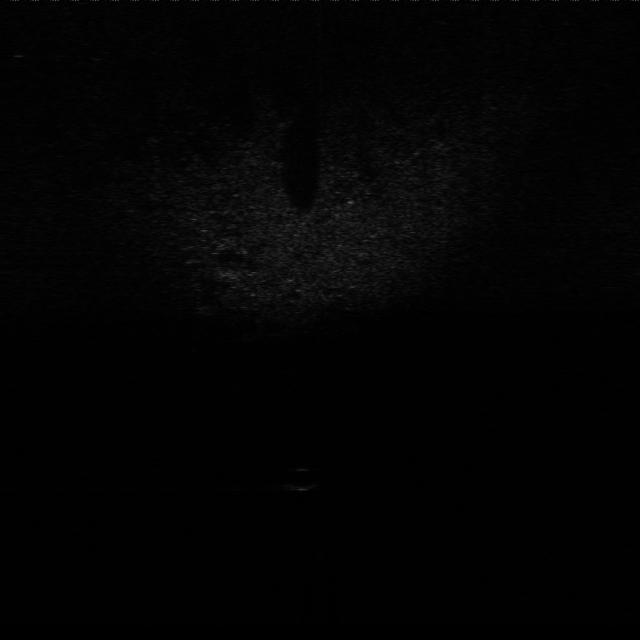ball: (283, 465, 321, 493)
